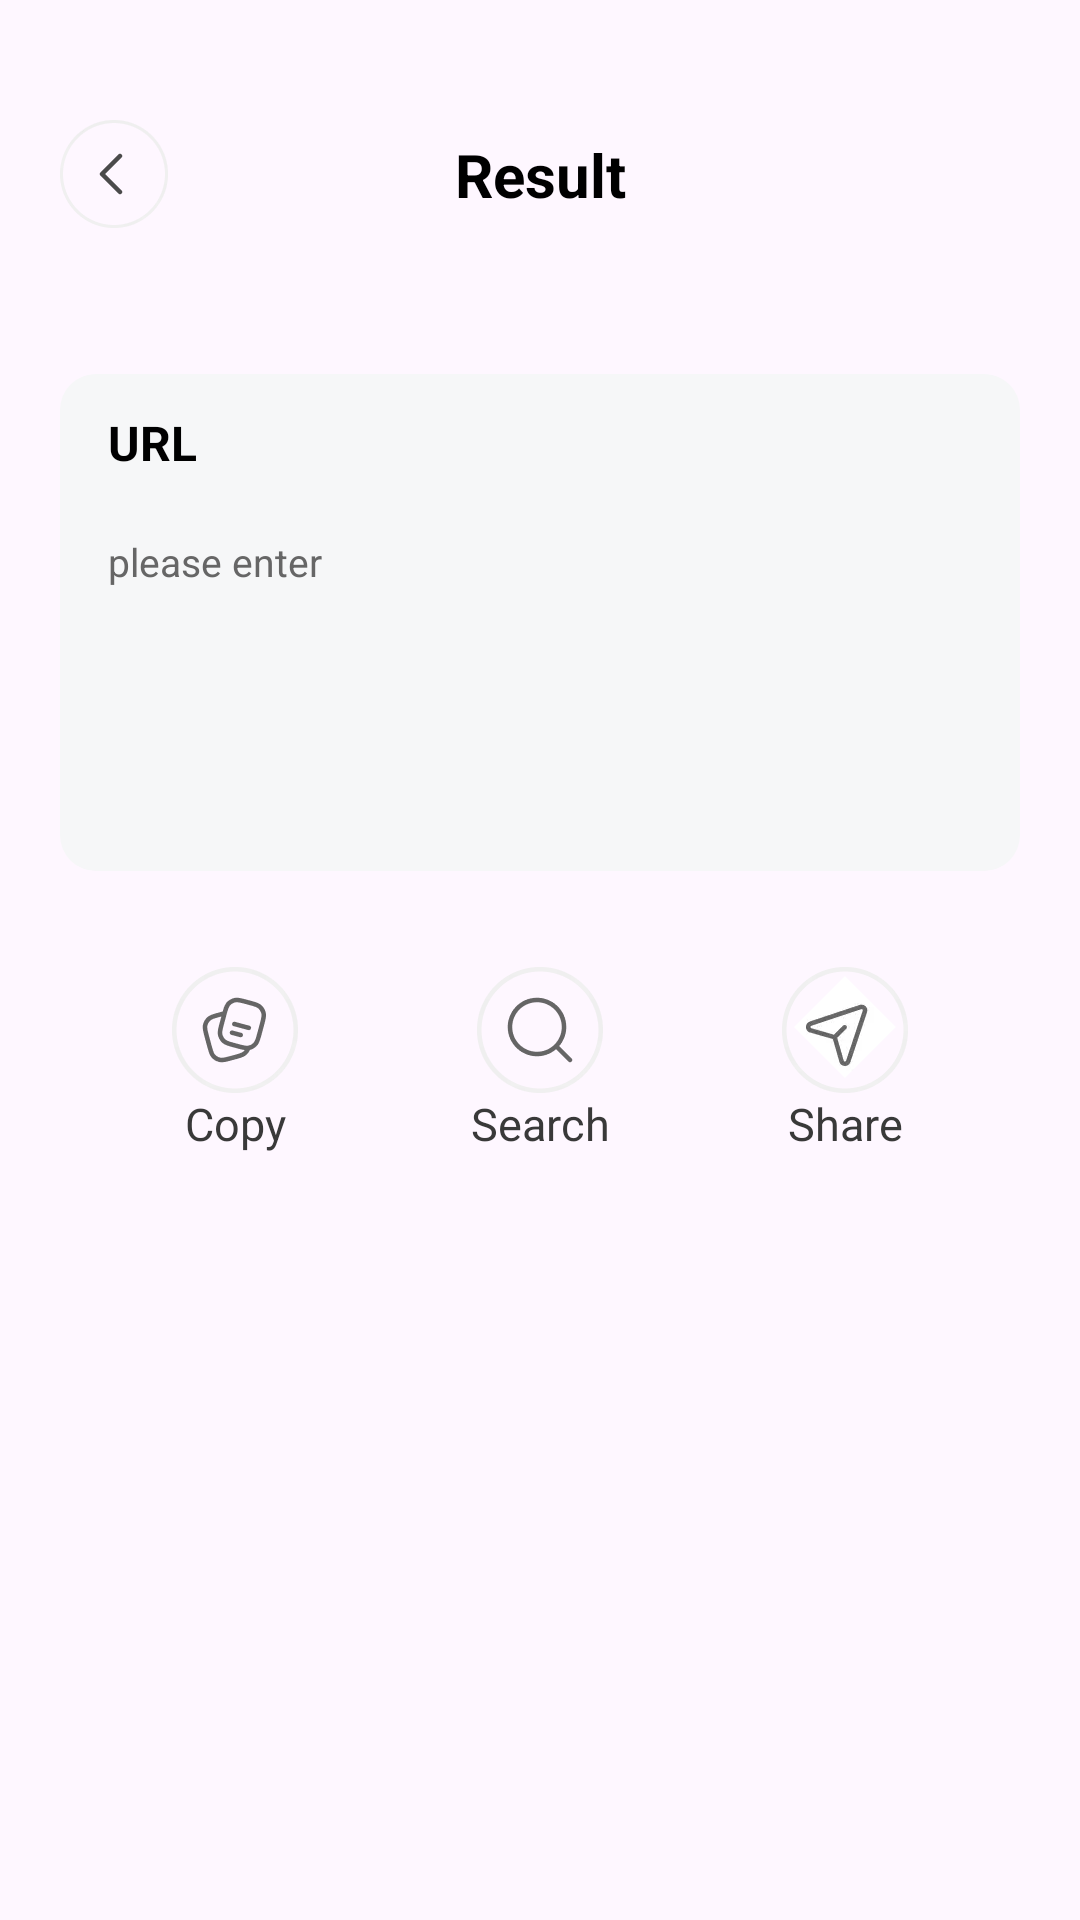

Screen size 1080 x 1920. Icon name, then its box in pixels as [x1, y1, x2, y2]:
back: [99, 153, 123, 195]
